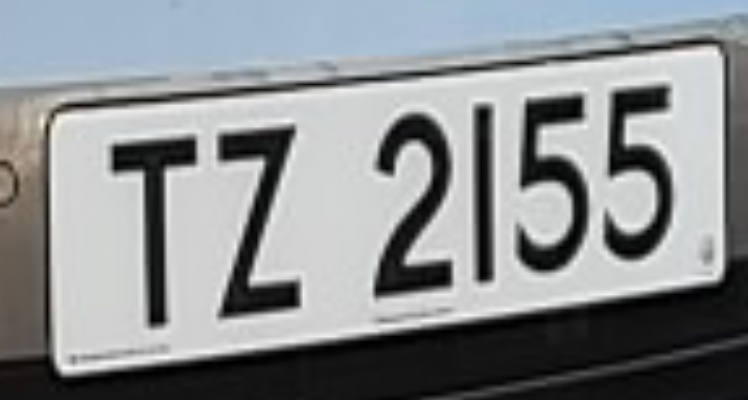1: (454, 86, 509, 301)
2: (358, 100, 462, 307)
5: (595, 67, 688, 277), (505, 77, 593, 284)
T: (93, 119, 215, 338)
Z: (199, 110, 321, 333)
